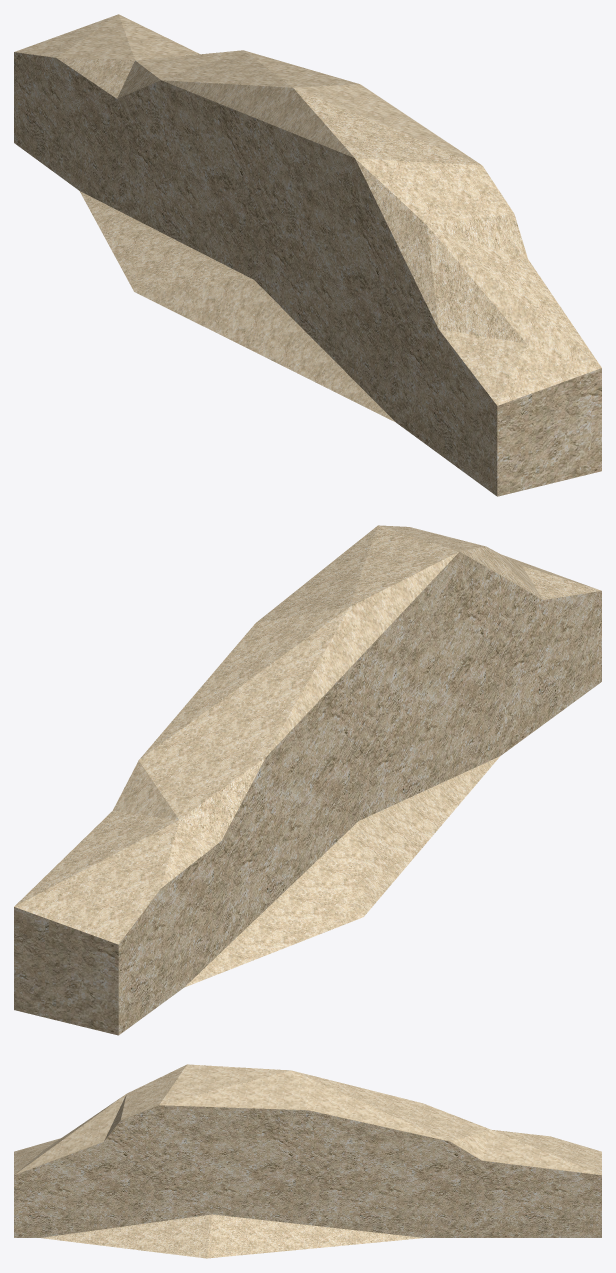
File: thm_tato_imprv_wall_sml_ruin_s01_l2.fbx
3 renders of one model, top to bottom at view 1: azimuth 30°, elevation 25°; view 2: azimuth 150°, elevation 25°; view 3: azimuth 270°, elevation 25°, orthographic. The views are drawn at different scales.
Parts seen in each view (by area): view 1: mesh_node; view 2: mesh_node; view 3: mesh_node.
Part boxes in pixels (x1=…): mesh_node: x1=14, y1=14, x2=601, y2=496; mesh_node: x1=14, y1=525, x2=601, y2=1035; mesh_node: x1=14, y1=1064, x2=601, y2=1258.
Size of the model in its own units: 1.13 by 1.08 by 4.
